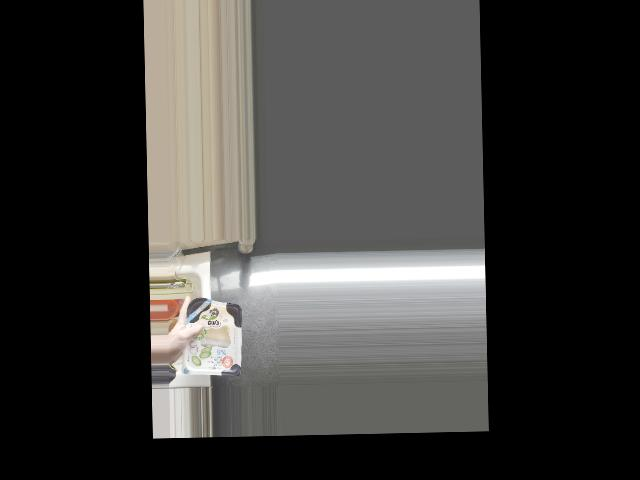cheese: (180, 296, 242, 373)
